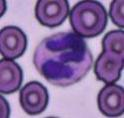N: (34, 32, 93, 86)
